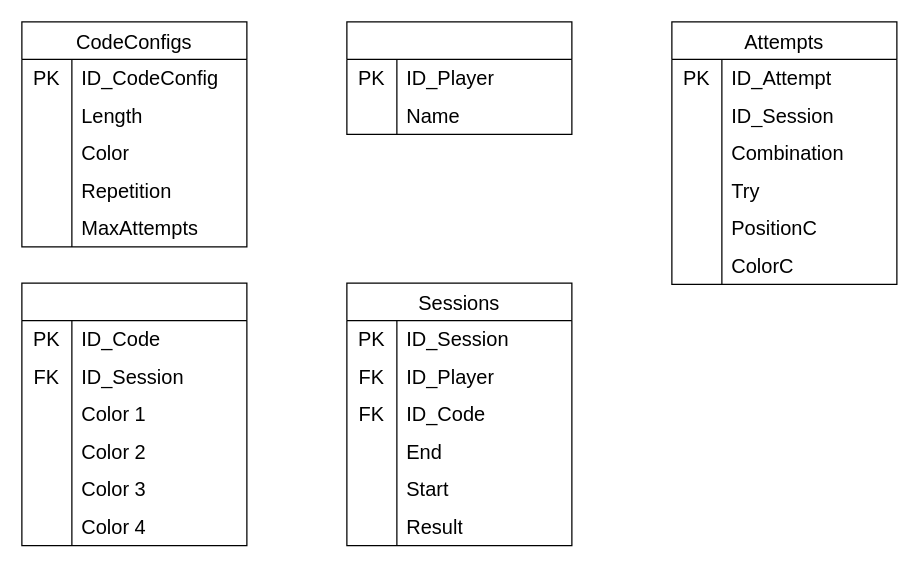
Image size: 919x568. Some labels were removed from this diagram. Each missing label, with the box of its shape:
Codes: (21, 282, 247, 546)
Players: (346, 21, 572, 134)
